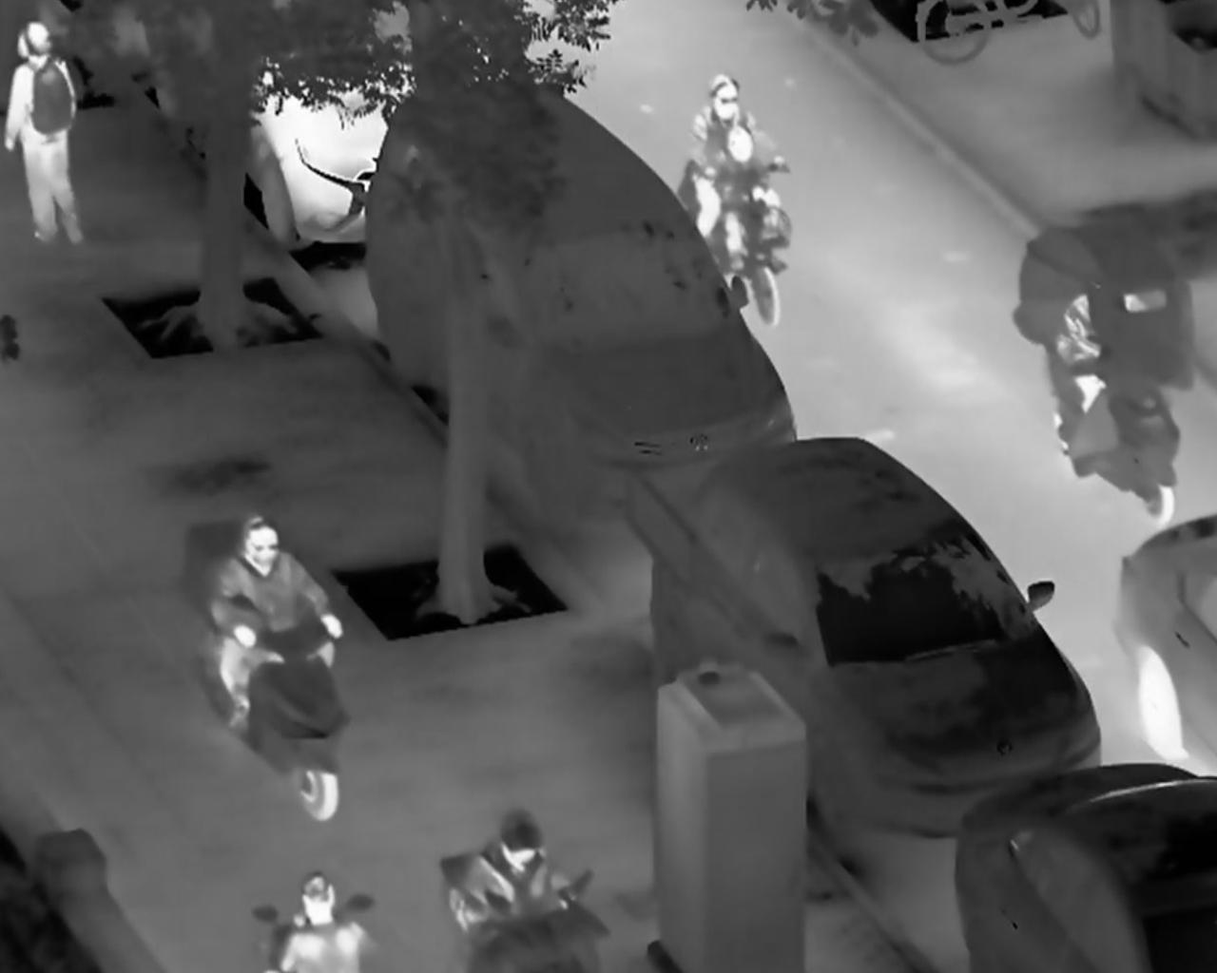person: (210, 511, 342, 736), (446, 795, 585, 945), (5, 20, 86, 247), (690, 68, 785, 245), (699, 129, 777, 262), (274, 870, 371, 973)
